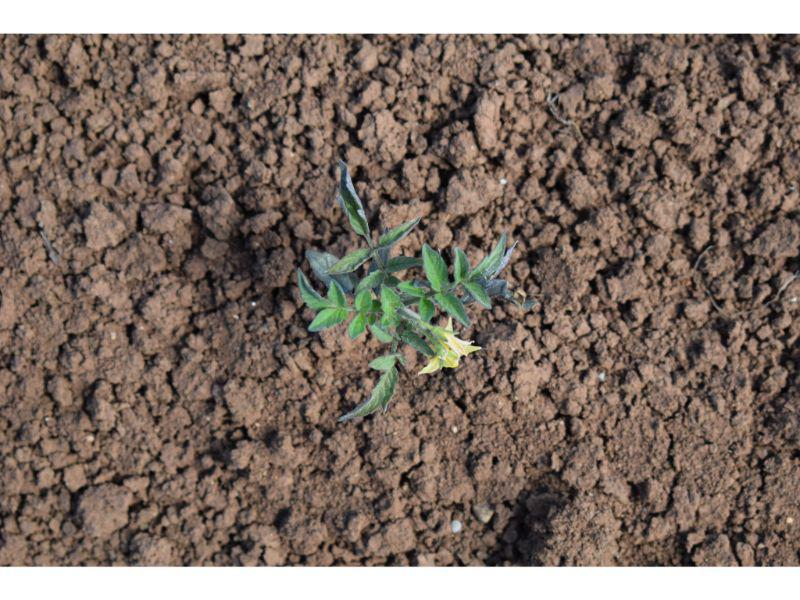tomato: (296, 161, 530, 421)
